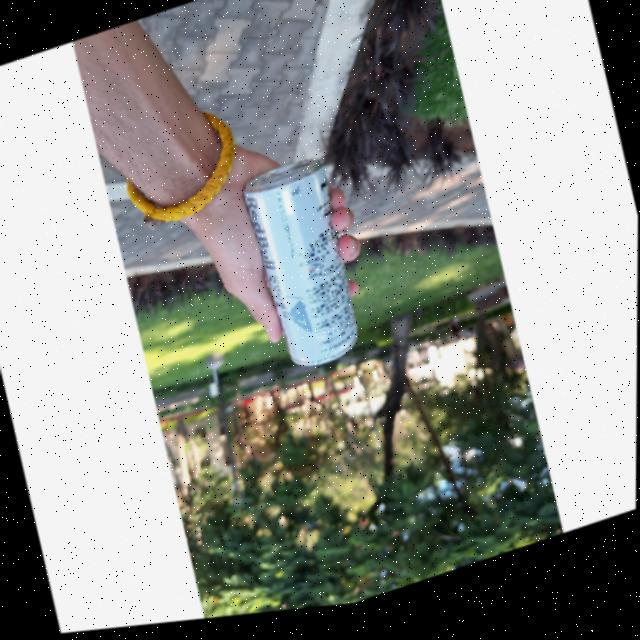Redbull Summer Edition: (231, 157, 372, 389)
